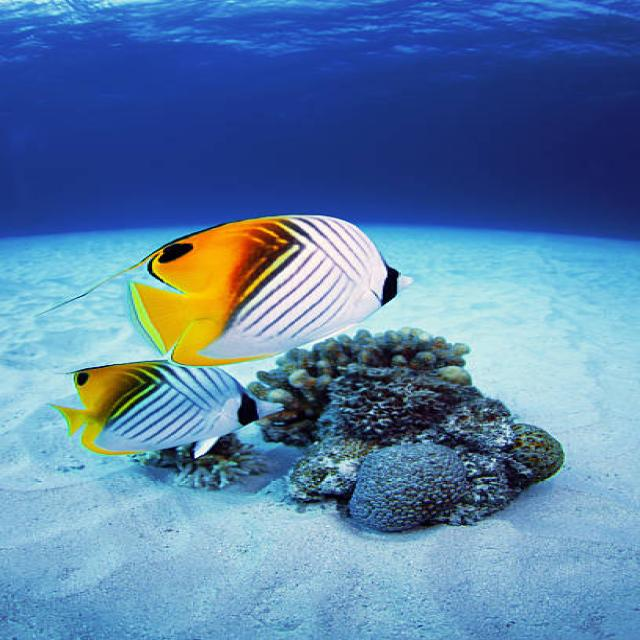ButterflyFish: (122, 212, 419, 366), (48, 359, 286, 464)
